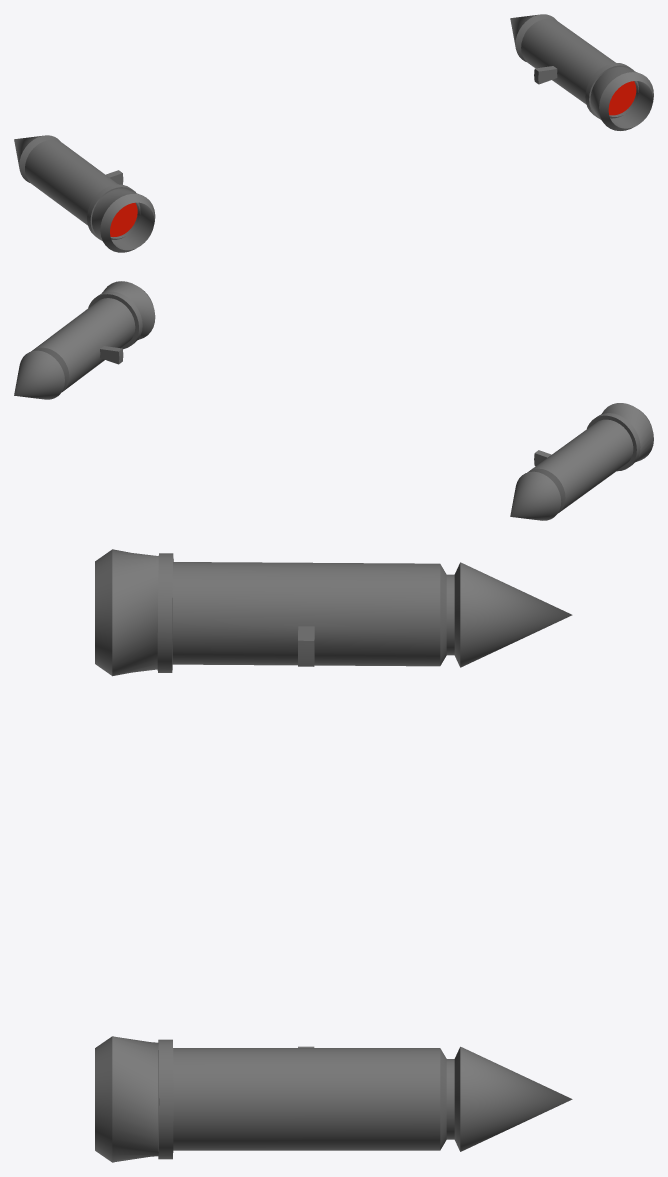
The model's file is rocket.fbx.
3 renders of one model, top to bottom at view 1: azimuth 30°, elevation 25°; view 2: azimuth 150°, elevation 25°; view 3: azimuth 270°, elevation 25°, orthographic. The views are drawn at different scales.
Visible parts, largest first — view 1: Cylinder.009; view 2: Cylinder.009; view 3: Cylinder.009.
Boxes of the visible parts, x1,y1,x2,y2 form: Cylinder.009: (14,14,653,252); Cylinder.009: (14,281,653,520); Cylinder.009: (95,549,572,1162).
Bounding box in the file's own units: 224 × 22.19 × 83.56.
Materials: 1 (1 with a texture image).
